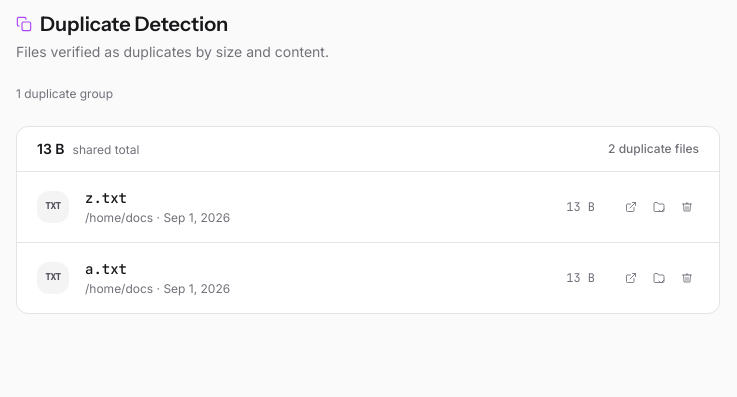
it: Duplicates › surfaces a delete failure and keeps the member and group visible
This screenshot has width=737, height=397.
Click the button named "Delete z.txt". click: (687, 207)
box: [675,195,699,219]
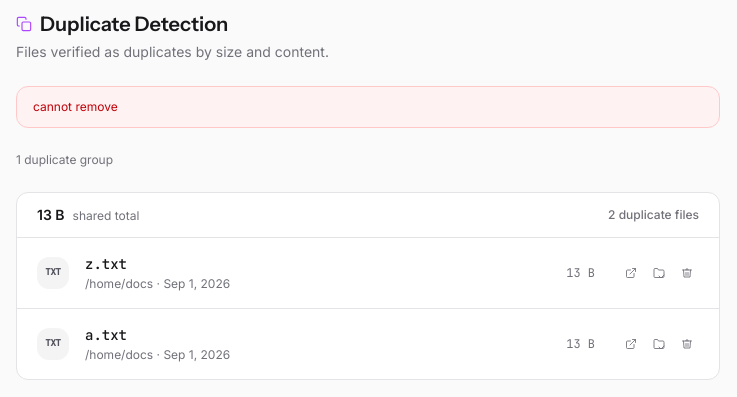
Expected: the text "z.txt" is shown, [85,255,127,273]
Expected: the message reads "cannot remove", [33,99,118,114]
